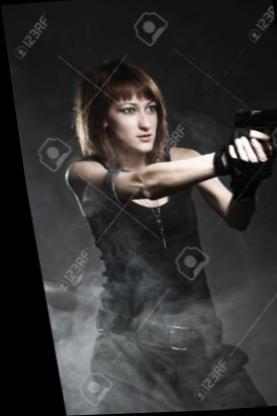pistol: (195, 101, 275, 170)
